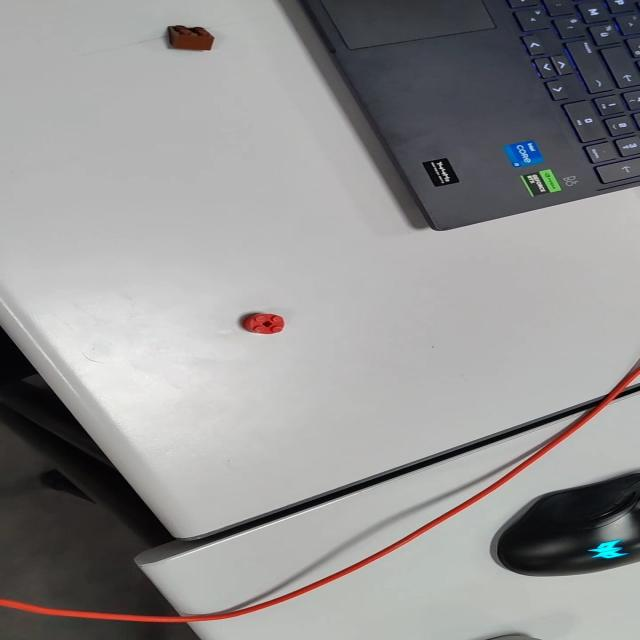S2x2x1: (242, 312, 286, 335)
